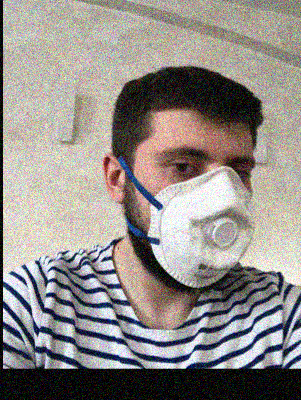with_mask: (145, 129, 256, 292)
